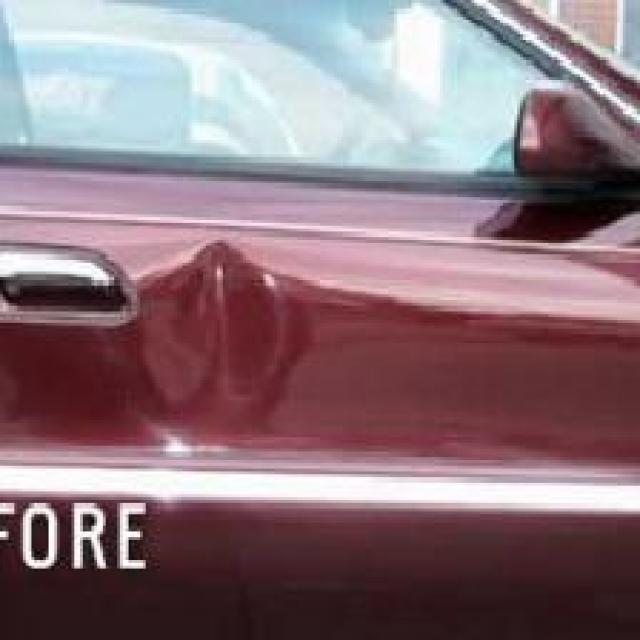damaged: (111, 228, 338, 466)
